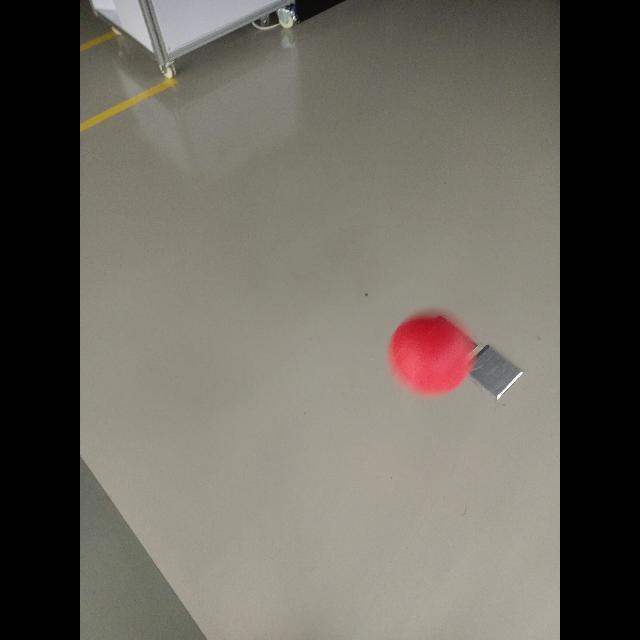R: (390, 310, 474, 396)
